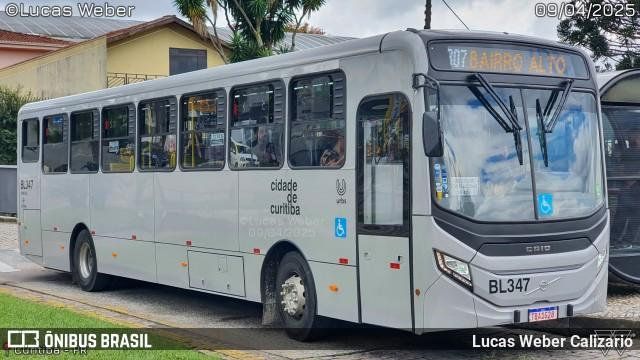BAIRRO ALTO: (466, 47, 570, 77)
